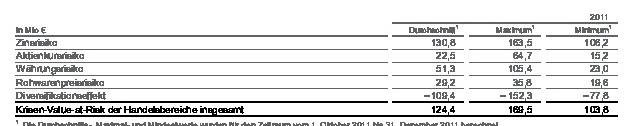table: (0, 0, 635, 126)
